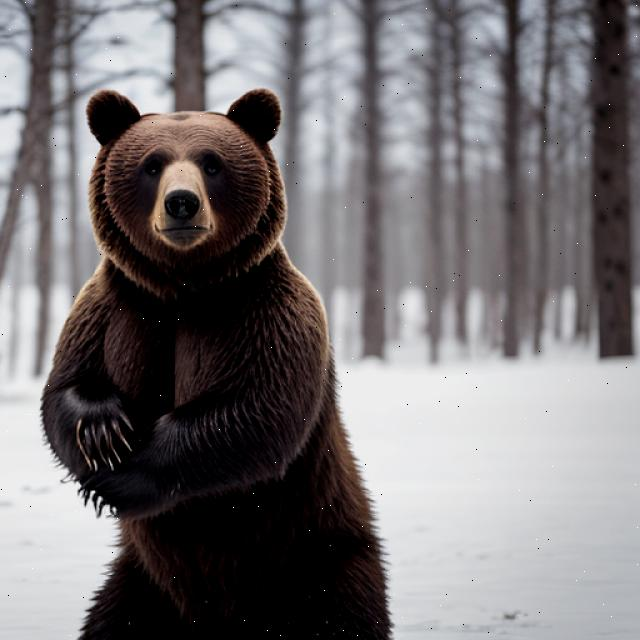bear: (67, 85, 298, 345)
